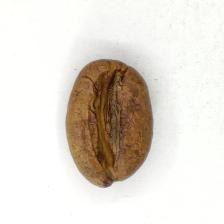NG: (84, 68, 141, 172)
